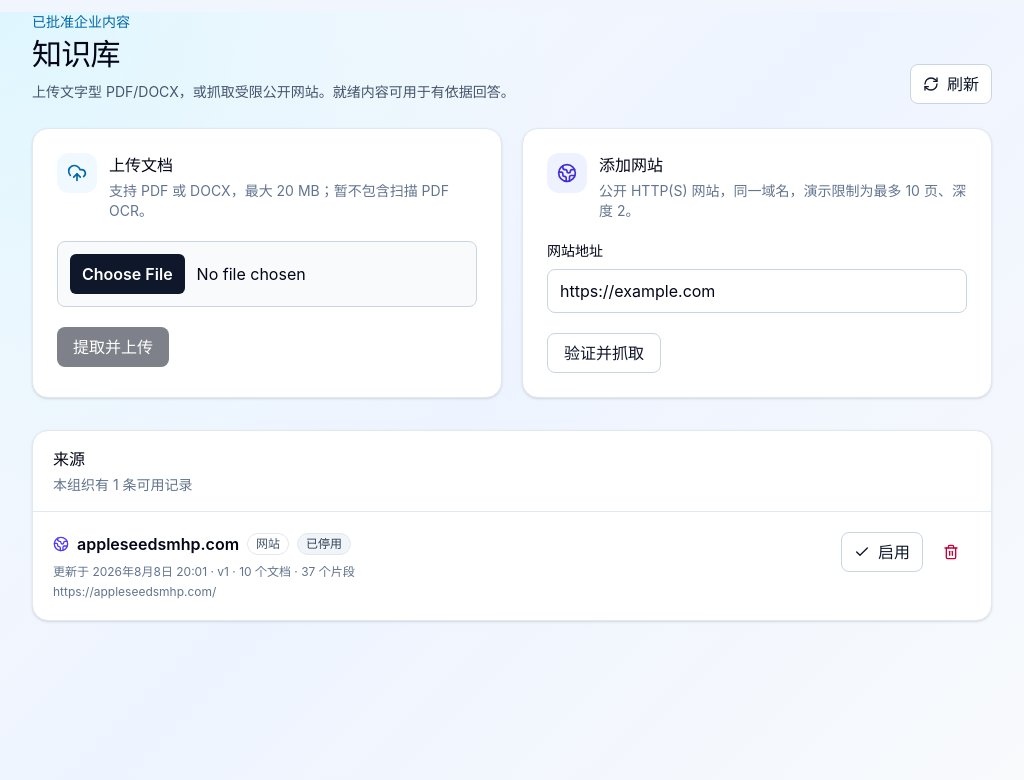
it: knowledge workspace source management › does not create a duplicate when the website already exists
Replace the text in the field labelled "网站地址" with "https://appleseedsmhp.com/" at (757, 291), box [547, 269, 967, 313]
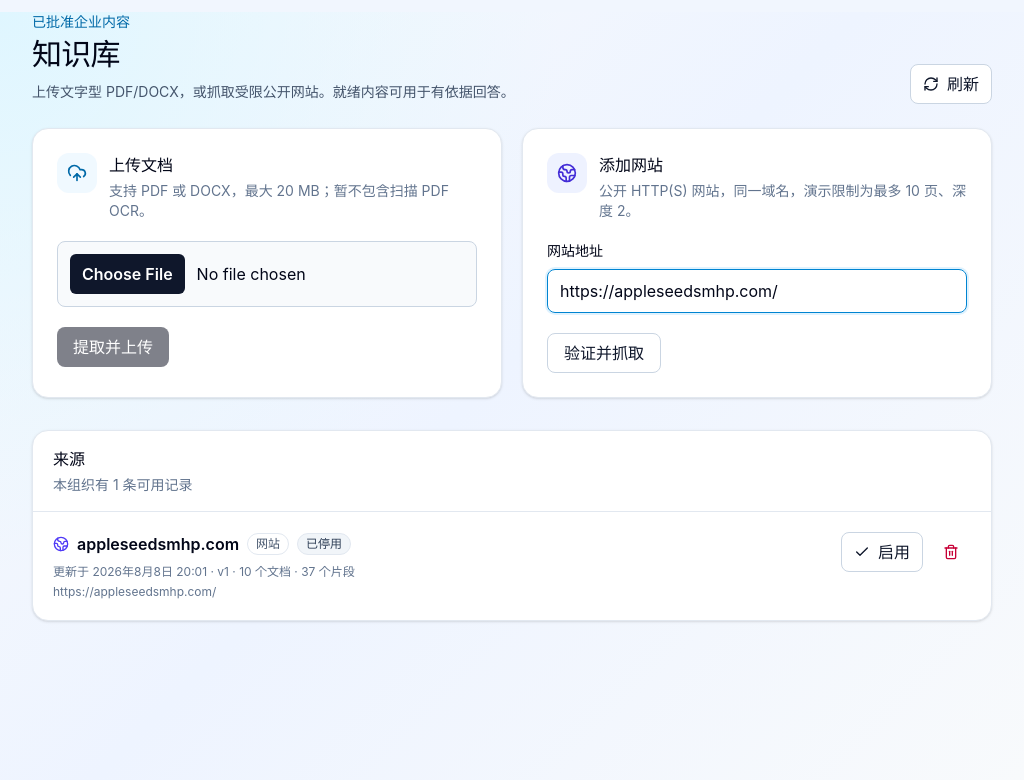
Click the button "验证并抓取".
click(604, 353)  # box [547, 333, 661, 373]
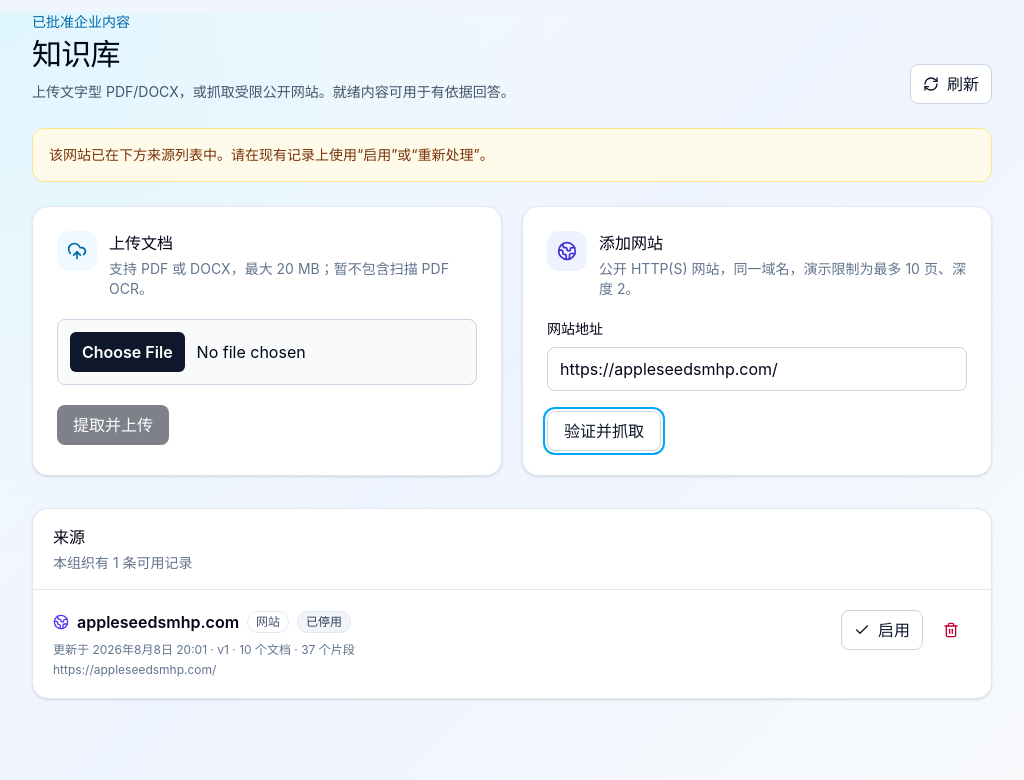
Expected: the text "该网站已在下方来源列表中。请在现有记录上使用“启用”或“重新处理”。" is shown, [32, 128, 992, 182]
